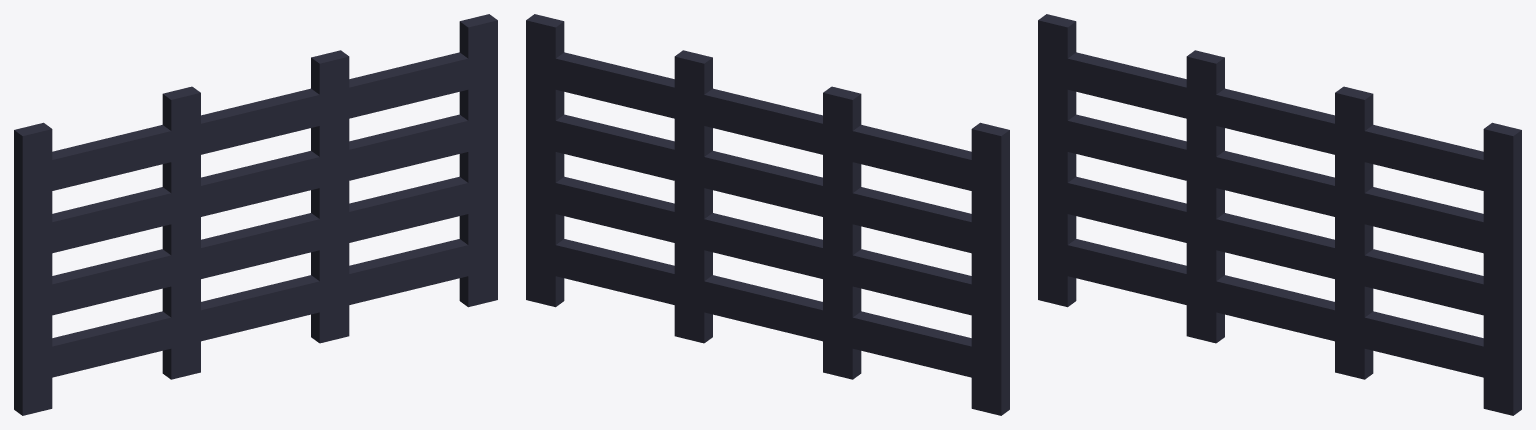
File: Płot_mocny_ciemny.dae
3 renders of one model, left to right at view 1: azimuth 30°, elevation 25°; view 2: azimuth 150°, elevation 25°; view 3: azimuth 330°, elevation 25°, orthographic.
Visible parts, largest first — view 1: Content; view 2: Content; view 3: Content.
Part boxes in pixels (x1,y1,x2,y2): Content: (14,14,497,415); Content: (526,14,1009,415); Content: (1038,14,1521,415).
Bounding box in the file's own units: 32 × 18 × 1.
Materials: 1 (1 with a texture image).
